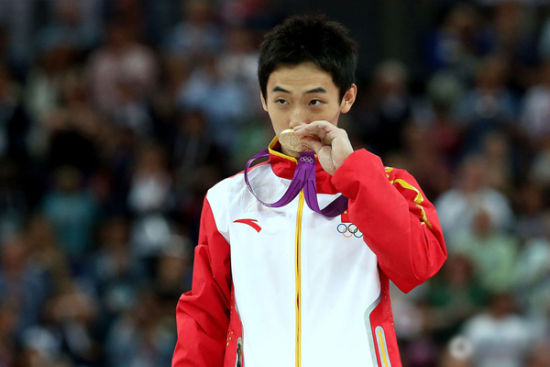face: (262, 62, 347, 151)
